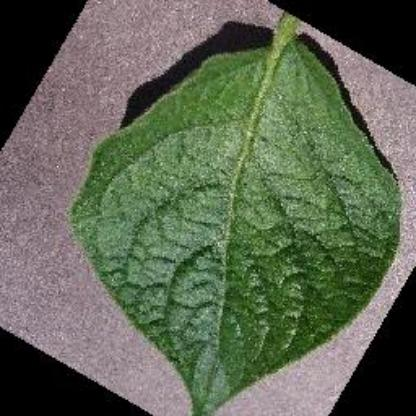Healthy-plant: (62, 8, 402, 416)
